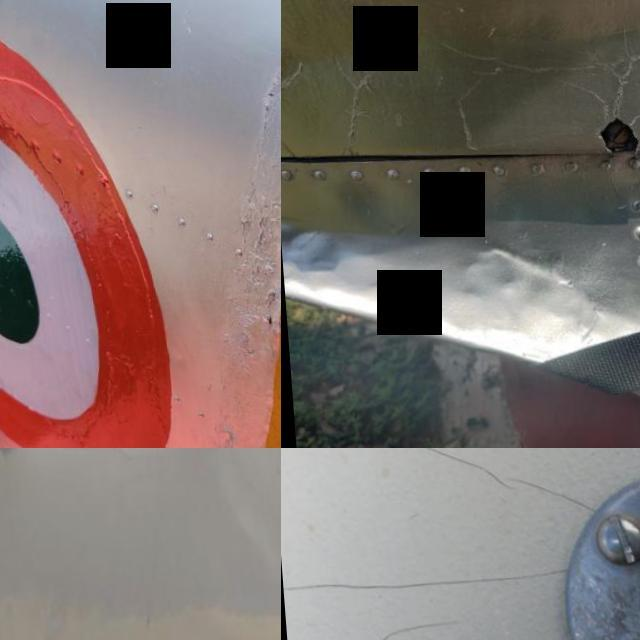Crack: (554, 16, 640, 167), (405, 448, 595, 508), (281, 562, 566, 600), (368, 617, 453, 640)
Dent: (228, 208, 281, 381)
